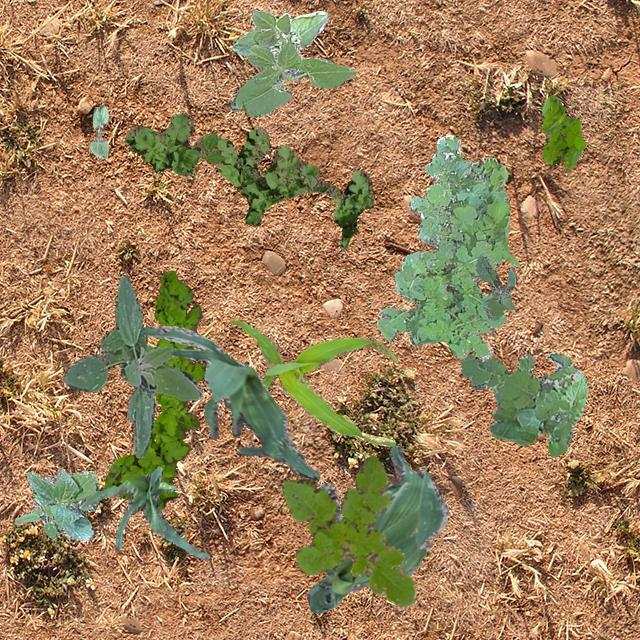crop: (140, 324, 318, 478), (306, 444, 448, 612), (230, 318, 396, 446), (228, 10, 354, 116), (75, 466, 208, 558), (13, 468, 98, 540), (89, 104, 108, 158)
weed: (124, 112, 372, 248), (376, 134, 518, 360), (62, 274, 202, 458), (104, 270, 204, 508), (280, 454, 416, 608), (459, 350, 586, 456), (540, 94, 584, 172), (474, 254, 514, 320)
